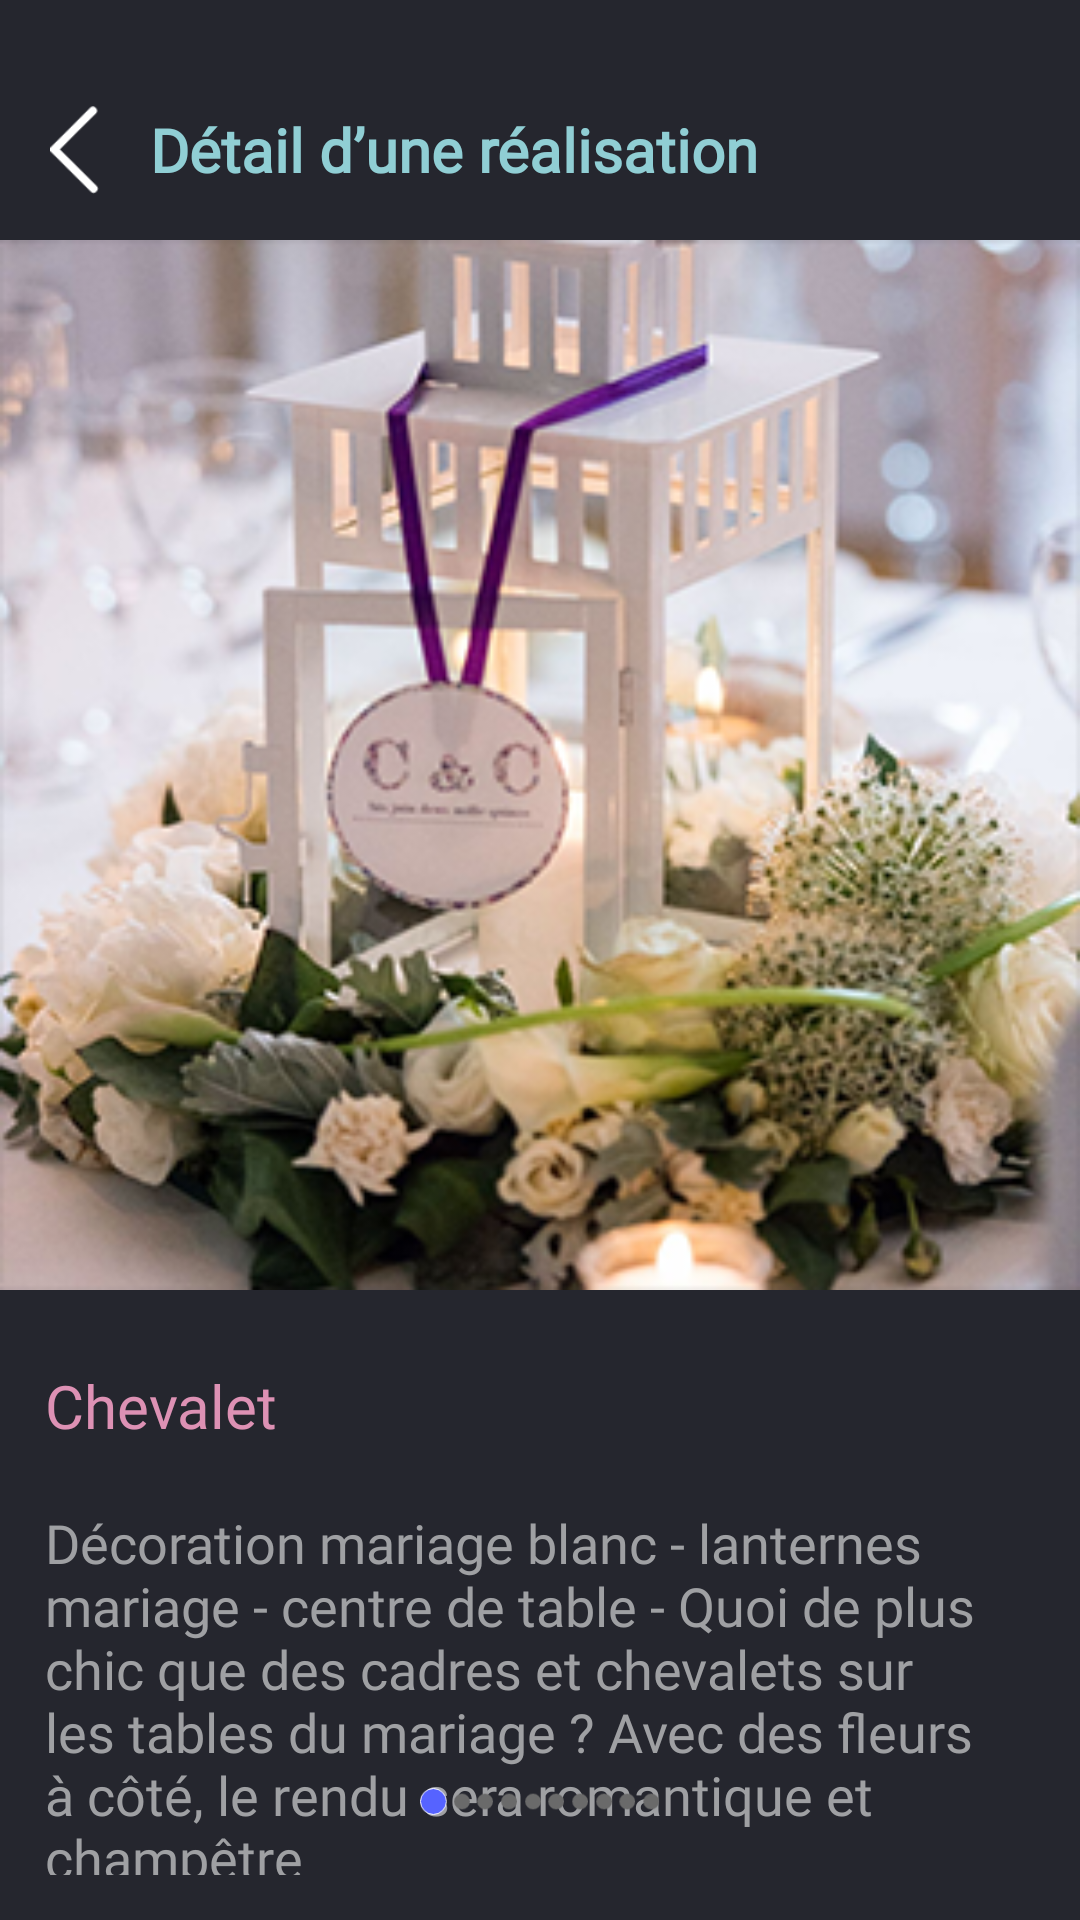

Named icons in this screenshot (1080px x 1920px) and their bounding boxes, (x1, y1, x2, y2):
right back: (50, 106, 99, 194)
